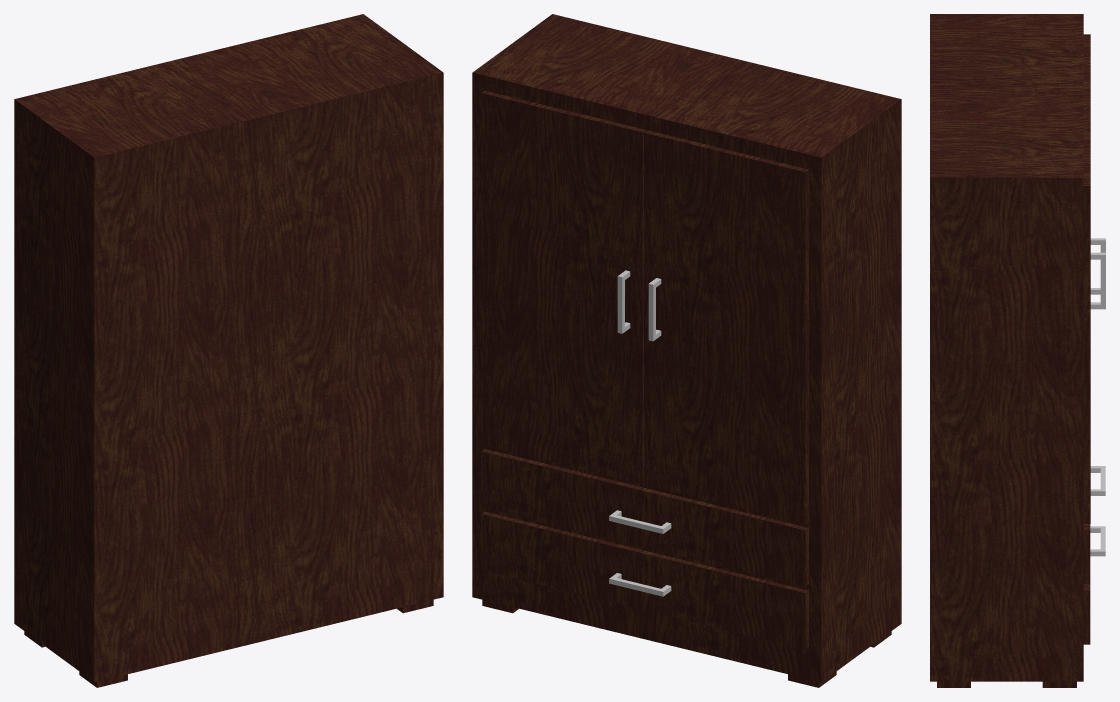
Rendered from closet.glb.
3 renders of one model, left to right at view 1: azimuth 30°, elevation 25°; view 2: azimuth 150°, elevation 25°; view 3: azimuth 270°, elevation 25°, orthographic. The views are drawn at different scales.
Parts seen in each view (by area): view 1: furniture and household assets.001; view 2: furniture and household assets.001; view 3: furniture and household assets.001.
Part boxes in pixels (x1,y1,x2,y2): furniture and household assets.001: (14,14,443,687); furniture and household assets.001: (472,14,901,687); furniture and household assets.001: (930,14,1105,687).
Size of the model in its own units: 113 by 166 by 51.5.
2 materials, 1 textured.
